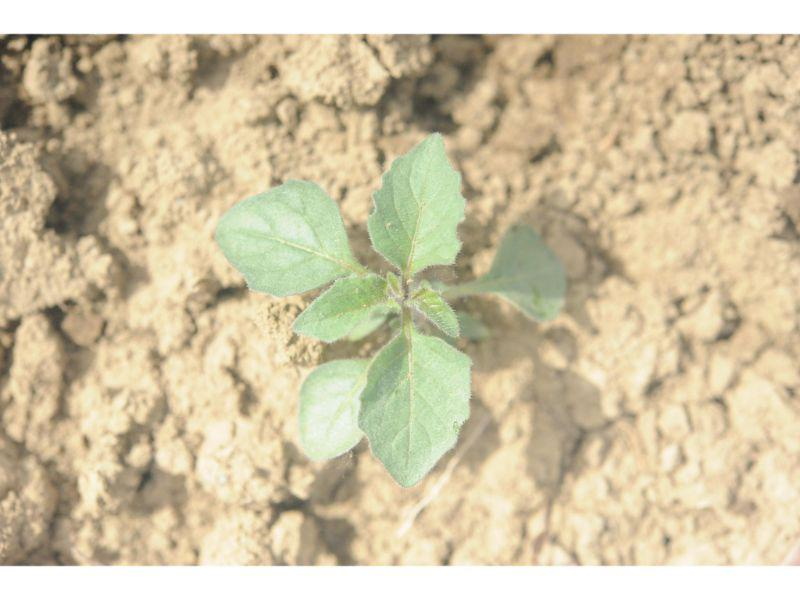nightshade: (217, 130, 567, 488)
